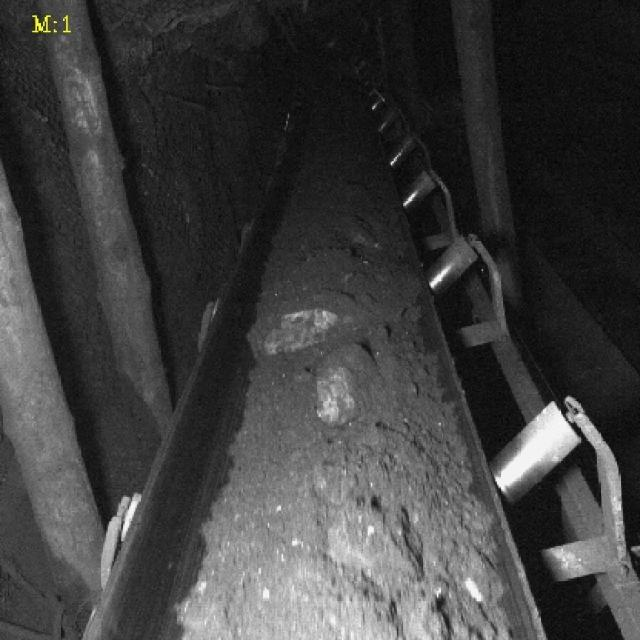large_sized_coal: (326, 511, 423, 582), (252, 296, 340, 356), (311, 344, 377, 422)
